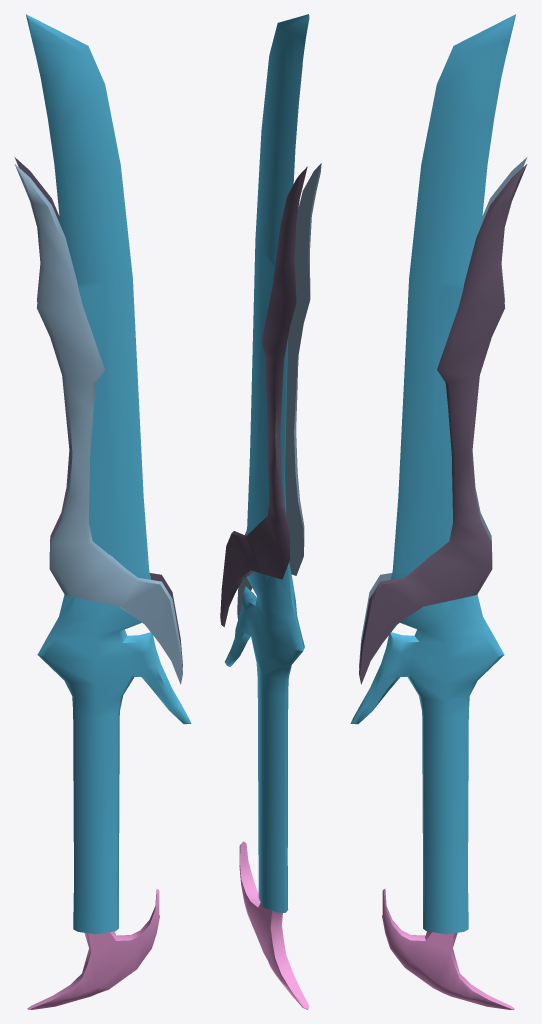
3 renders of one model, left to right at view 1: azimuth 90°, elevation 25°; view 2: azimuth 210°, elevation 25°; view 3: azimuth 270°, elevation 25°, orthographic.
Visible parts, largest first — view 1: Object_2, Object_3.001, Object_3, Object_3.004; view 2: Object_2, Object_3.004, Object_3.001, Object_3; view 3: Object_2, Object_3.004, Object_3, Object_3.001.
Part boxes in pixels (x1,y1,x2,y2): Object_2: (26,14,191,934); Object_3.001: (14,164,182,684); Object_3: (27,888,159,1009); Object_3.004: (14,157,182,667); Object_2: (225,14,309,912); Object_3.004: (220,166,307,627); Object_3.001: (237,163,321,619); Object_3: (239,841,309,1009); Object_2: (350,14,515,934); Object_3.004: (359,164,527,684); Object_3: (382,888,514,1009); Object_3.001: (359,157,527,667).
Bounding box in the file's own units: 0.0238 × 1 × 0.1613.
